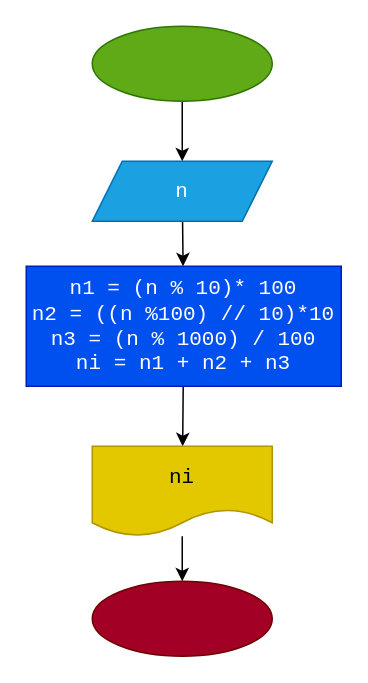
The diagram is 368 pixels wide and 683 high, and some of its shapes have lost their labels. The shapes that lost their labels are listed below. From the top down, each one's centre as x and y in pixels, then its label:
the point at 181,63: INICIO
the point at 181,618: FIN
